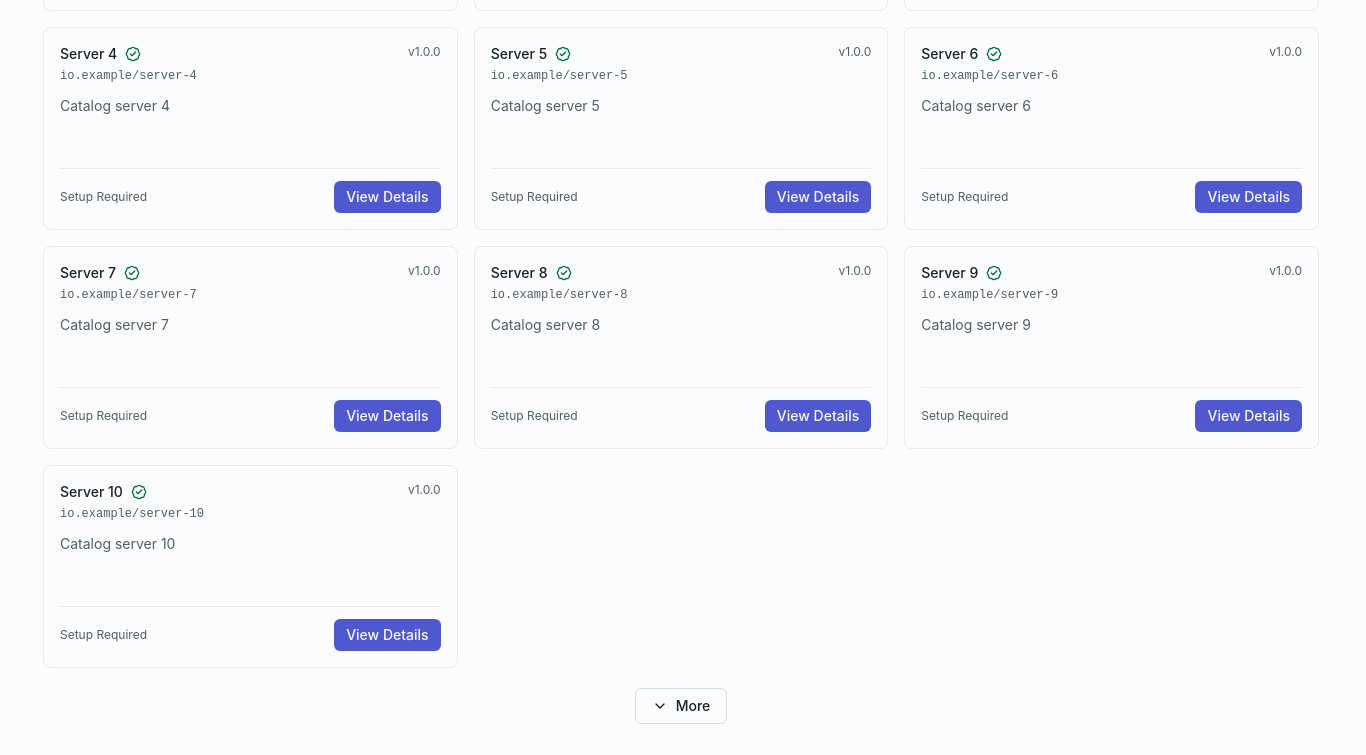
Scenario: McpServersPage › shows ten catalog entries initially and appends ten more on demand
(page scrolled)
Click the button with test id "mcp-catalog-more" at (681, 706), box [635,688,727,724]
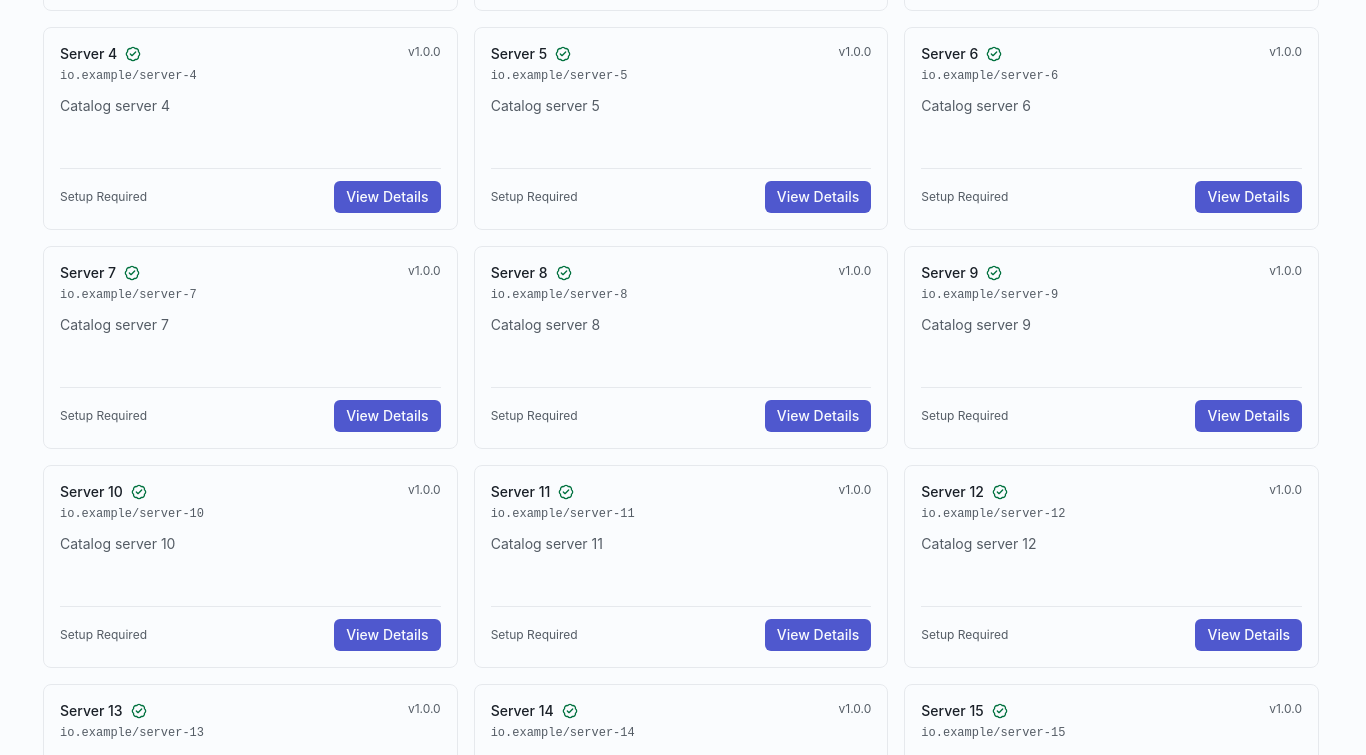
Expected: the number of elements with test id "mcp-catalog-card" is 20
